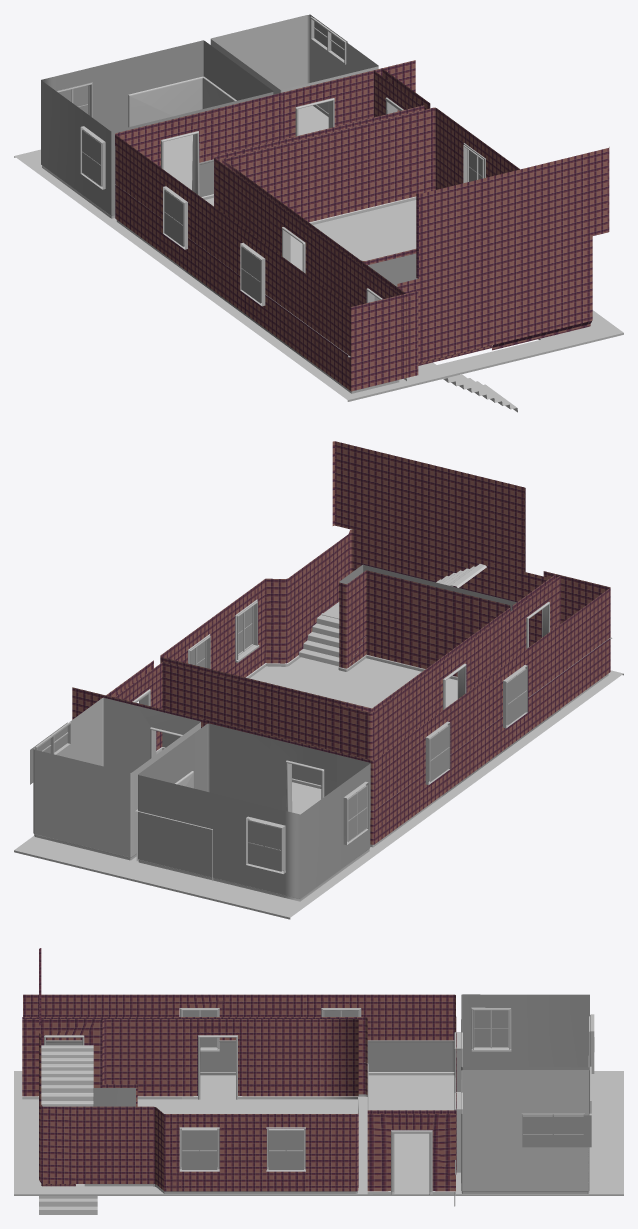
File: Cabin_lv1.fbx
3 renders of one model, top to bottom at view 1: azimuth 30°, elevation 25°; view 2: azimuth 150°, elevation 25°; view 3: azimuth 270°, elevation 25°, orthographic. The views are drawn at different scales.
Parts seen in each view (by area): view 1: cabin_lv1; view 2: cabin_lv1; view 3: cabin_lv1.
Boxes of the visible parts, x1,y1,x2,y2 form: cabin_lv1: [14, 14, 623, 412]; cabin_lv1: [14, 441, 623, 919]; cabin_lv1: [14, 948, 623, 1214].
Size of the model in its own units: 925 by 693 by 1725.
